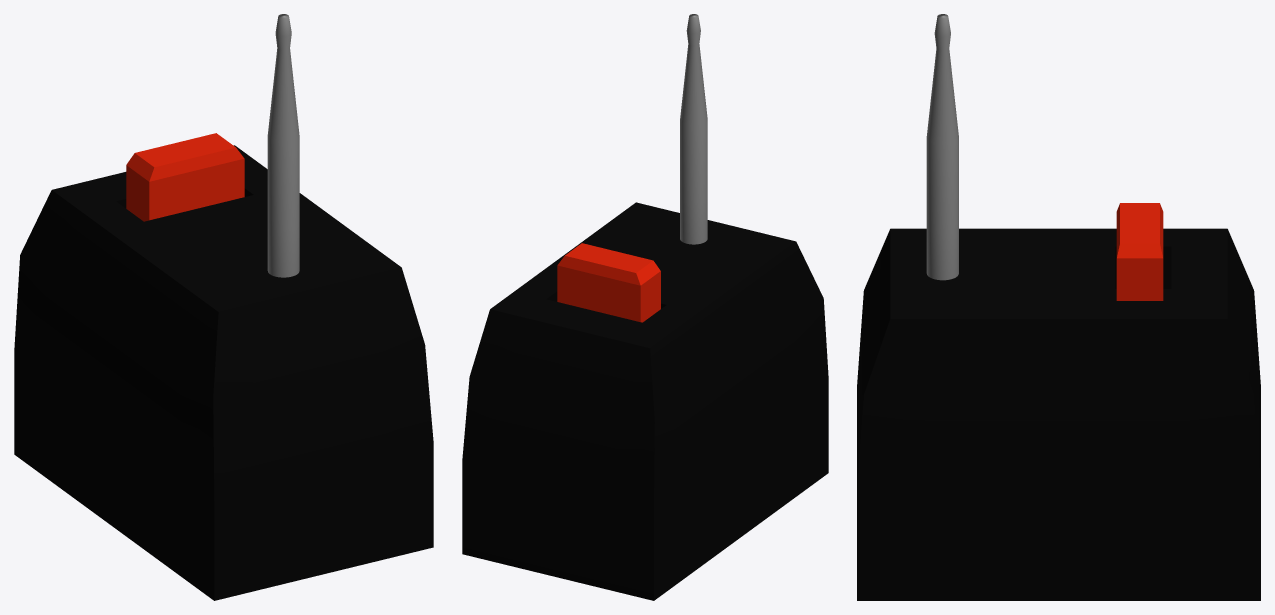
Rendered from Tuner.fbx.
3 renders of one model, left to right at view 1: azimuth 30°, elevation 25°; view 2: azimuth 150°, elevation 25°; view 3: azimuth 270°, elevation 25°, orthographic. The views are drawn at different scales.
Parts seen in each view (by area): view 1: Cube, Cube.001, Cylinder; view 2: Cube, Cube.001, Cylinder; view 3: Cube, Cylinder, Cube.001.
Boxes of the visible parts, x1,y1,x2,y2 form: Cube: [14, 145, 433, 600]; Cube.001: [126, 133, 244, 221]; Cylinder: [267, 14, 299, 277]; Cube: [462, 202, 828, 600]; Cube.001: [557, 243, 660, 322]; Cylinder: [680, 14, 707, 244]; Cube: [857, 228, 1260, 600]; Cylinder: [926, 14, 958, 280]; Cube.001: [1116, 203, 1163, 300].
Bounding box in the file's own units: 64.02 × 147 × 101.
